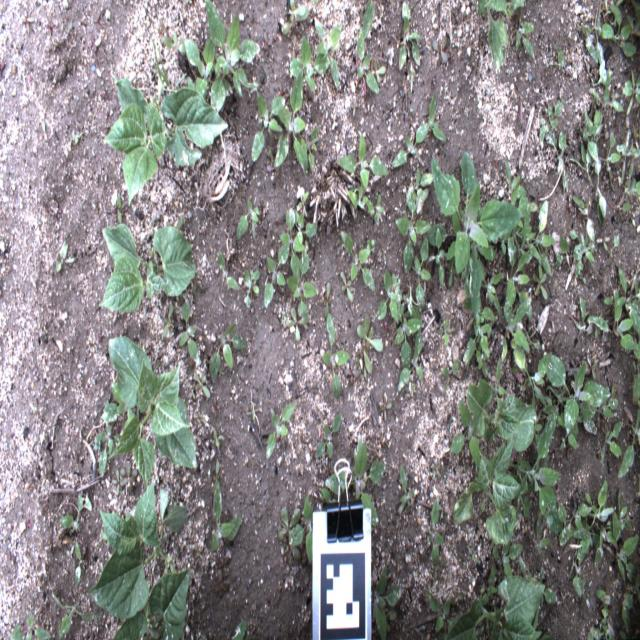crop: (427, 150, 521, 328), (103, 77, 228, 207), (87, 472, 188, 618), (106, 334, 198, 490), (96, 223, 197, 312), (453, 433, 521, 545), (444, 576, 556, 638), (112, 565, 192, 639), (467, 380, 536, 450), (477, 0, 526, 71)
weed: (501, 407, 564, 535), (559, 479, 615, 600), (204, 0, 260, 120), (542, 350, 612, 436), (324, 434, 388, 526), (390, 91, 446, 167), (394, 176, 432, 273), (510, 335, 552, 420), (599, 487, 634, 589), (183, 34, 233, 104), (274, 70, 308, 172), (337, 131, 390, 188), (391, 284, 423, 376), (586, 290, 634, 351), (501, 236, 535, 322), (462, 298, 496, 378), (521, 199, 555, 277), (320, 313, 350, 400), (209, 320, 248, 385), (52, 590, 104, 638), (372, 562, 404, 639), (287, 244, 317, 325), (339, 229, 376, 293), (448, 398, 480, 471), (252, 93, 286, 161), (210, 479, 242, 551), (389, 1, 422, 70), (314, 14, 344, 88), (501, 295, 532, 364), (265, 400, 296, 462), (280, 206, 304, 285), (288, 492, 315, 562), (264, 240, 291, 309), (543, 118, 567, 192), (356, 24, 380, 95), (602, 4, 634, 55), (618, 263, 640, 337), (356, 316, 383, 374), (424, 591, 460, 634), (289, 33, 315, 92), (96, 425, 126, 476), (568, 140, 598, 188), (554, 235, 585, 280), (600, 130, 622, 192), (414, 237, 431, 315), (314, 414, 342, 461), (59, 494, 92, 533), (179, 293, 197, 363), (540, 99, 564, 149), (572, 194, 595, 243), (10, 612, 51, 639), (236, 196, 261, 240), (429, 496, 444, 567), (280, 0, 309, 35), (594, 153, 607, 229), (588, 85, 623, 112), (602, 421, 624, 462), (218, 248, 239, 290), (622, 68, 640, 115), (516, 21, 534, 60), (244, 268, 260, 310), (400, 461, 414, 503), (533, 262, 548, 300), (435, 228, 444, 288), (192, 372, 210, 398), (163, 304, 174, 338)
